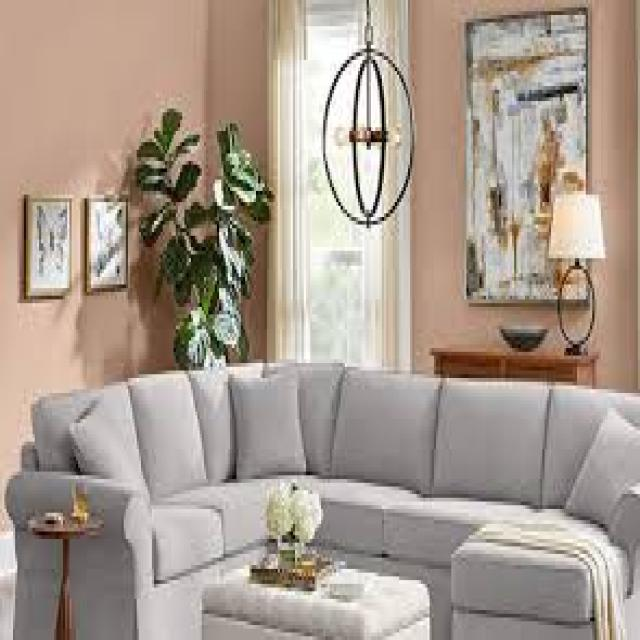Lamp: (545, 180, 597, 364)
Sofa: (13, 348, 640, 636)
Table: (201, 542, 429, 640)
